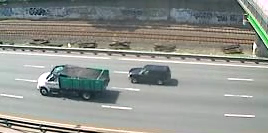car: (34, 63, 113, 103), (126, 63, 174, 88)
